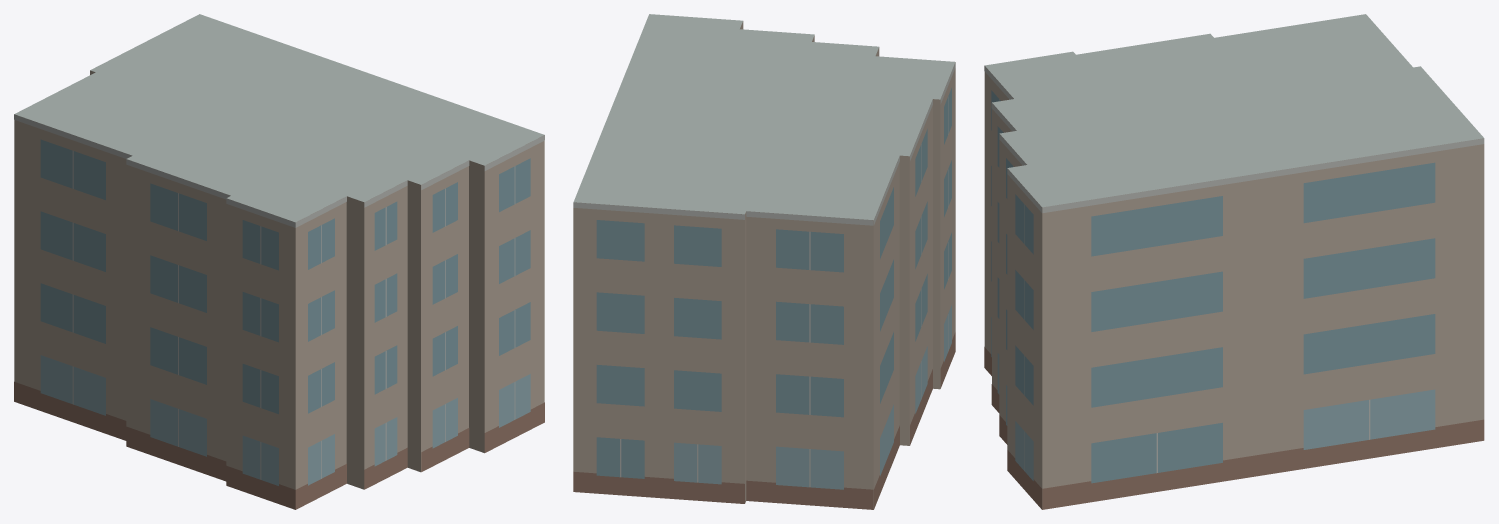
The model's file is survey-upis-33034121.glb.
3 views of the same model, side by side, from view 1: azimuth 30°, elevation 25°; view 2: azimuth 150°, elevation 25°; view 3: azimuth 270°, elevation 25° (orthographic). The views are drawn at different scales.
Parts seen in each view (by area): view 1: survey-upis-33034121.tmp; view 2: survey-upis-33034121.tmp; view 3: survey-upis-33034121.tmp.
Boxes of the visible parts, x1=… form: survey-upis-33034121.tmp: x1=14, y1=14, x2=544, y2=509; survey-upis-33034121.tmp: x1=573, y1=14, x2=955, y2=509; survey-upis-33034121.tmp: x1=984, y1=14, x2=1484, y2=509.
Size of the model in its own units: 17.29 by 12.6 by 18.88.
